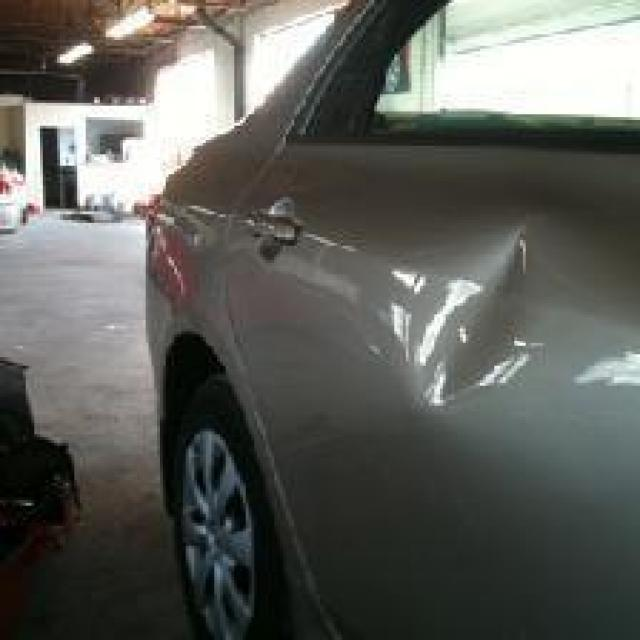damaged: (372, 223, 552, 414)
